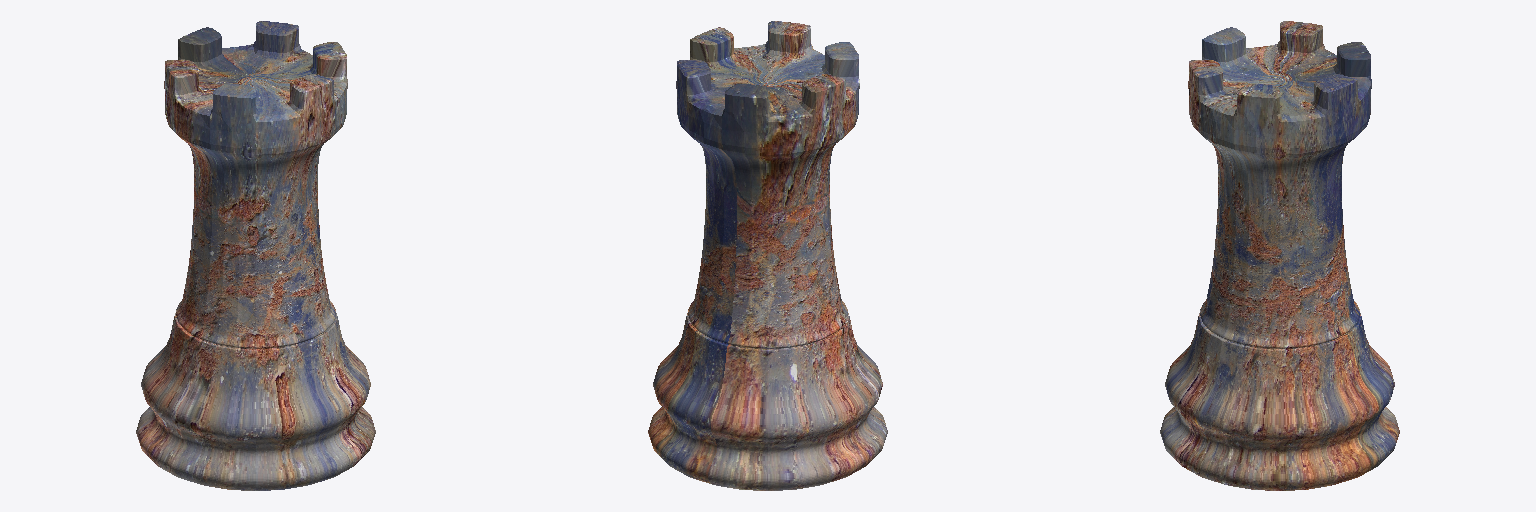
3 views of the same model, side by side, from view 1: azimuth 30°, elevation 25°; view 2: azimuth 150°, elevation 25°; view 3: azimuth 270°, elevation 25° (orthographic).
Visible parts, largest first — view 1: mesh01; view 2: mesh01; view 3: mesh01.
Boxes of the visible parts, <box> form: mesh01: <box>136,21,375,490</box>; mesh01: <box>648,21,887,490</box>; mesh01: <box>1160,21,1399,490</box>.
Size of the model in its own units: 13.12 by 23.88 by 13.12.
Materials: 1 (1 with a texture image).